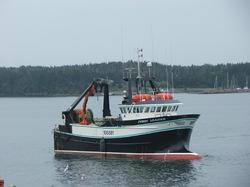otherboat: (51, 49, 206, 159)
